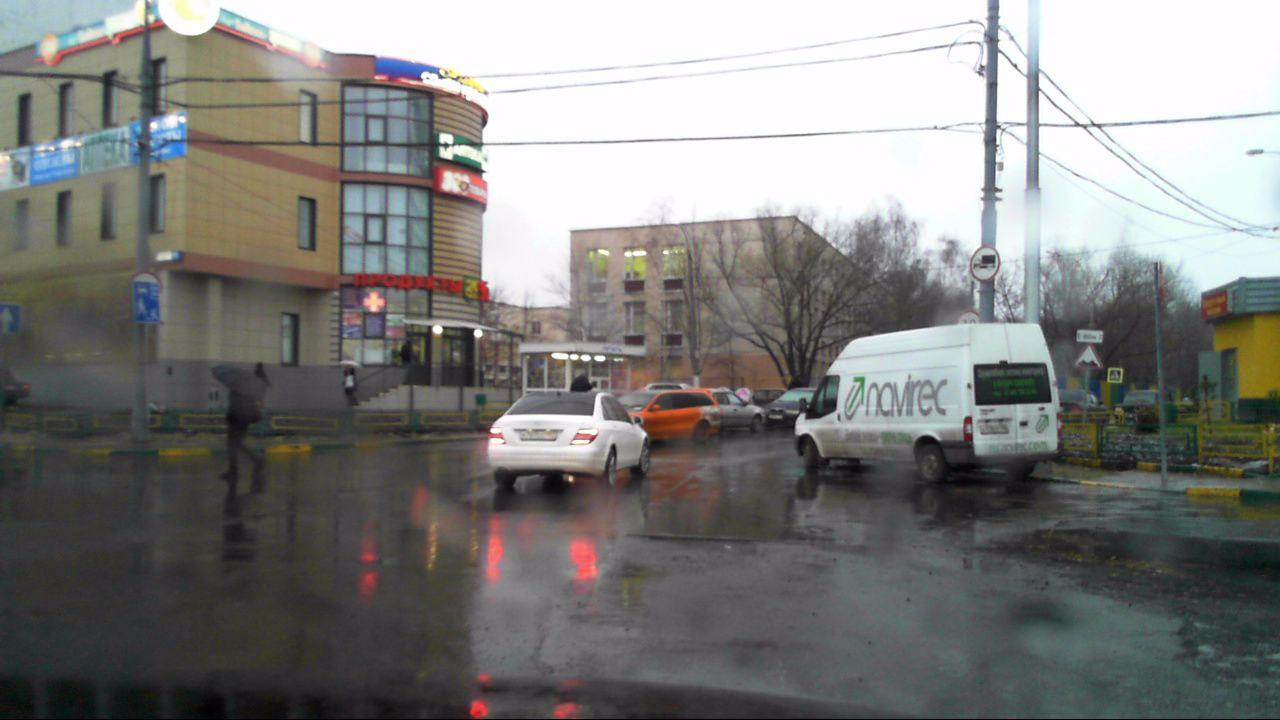1_16: (1072, 346, 1104, 371)
3_24: (957, 311, 980, 325)
3_4: (969, 246, 1000, 282)
5_19_1: (1107, 367, 1124, 383)
5_21: (132, 280, 163, 325)
5_5: (0, 304, 17, 335)
8_2_1: (1075, 328, 1105, 344)
